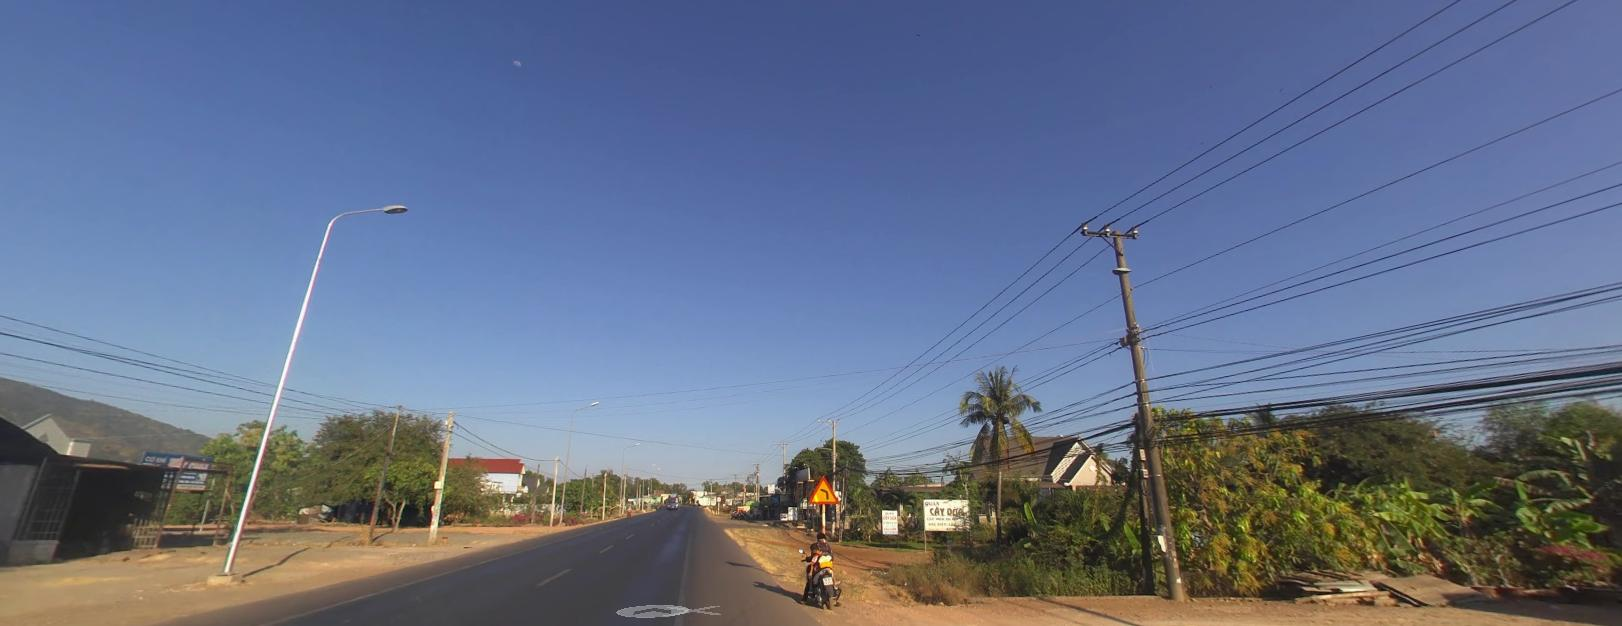Gioi han toc do: (716, 495, 721, 501)
Nguy hiem: (807, 471, 838, 505)
